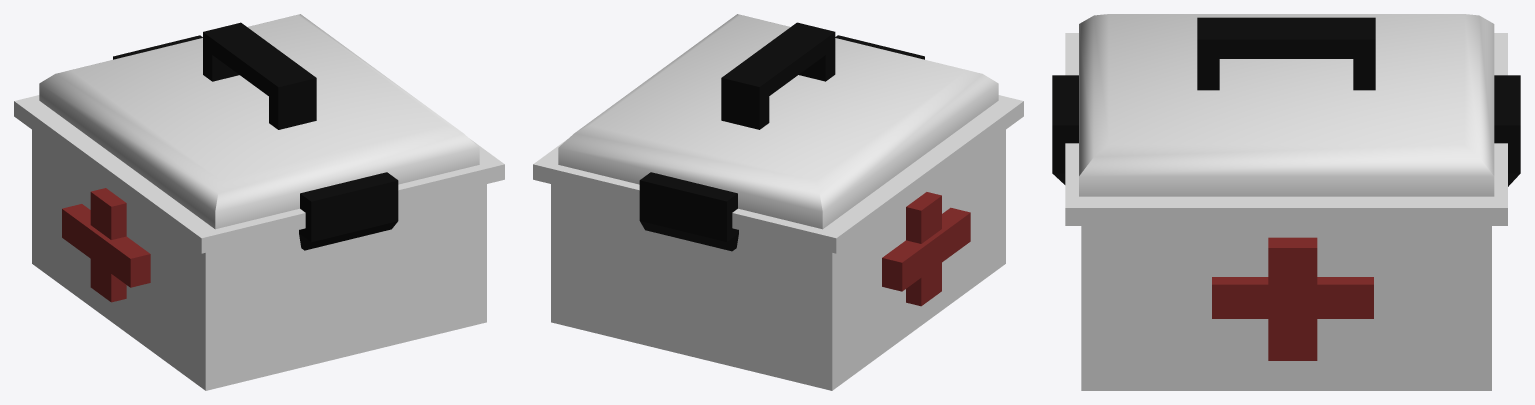
Rendered from HealthCrate.fbx.
3 views of the same model, side by side, from view 1: azimuth 30°, elevation 25°; view 2: azimuth 150°, elevation 25°; view 3: azimuth 270°, elevation 25° (orthographic). The views are drawn at different scales.
Visible parts, largest first — view 1: HealthCrate; view 2: HealthCrate; view 3: HealthCrate.
Part boxes in pixels (x1=…): HealthCrate: x1=14, y1=14, x2=504, y2=390; HealthCrate: x1=533, y1=14, x2=1023, y2=390; HealthCrate: x1=1052, y1=14, x2=1520, y2=390.
Bounding box in the file's own units: 266 × 189 × 286.
